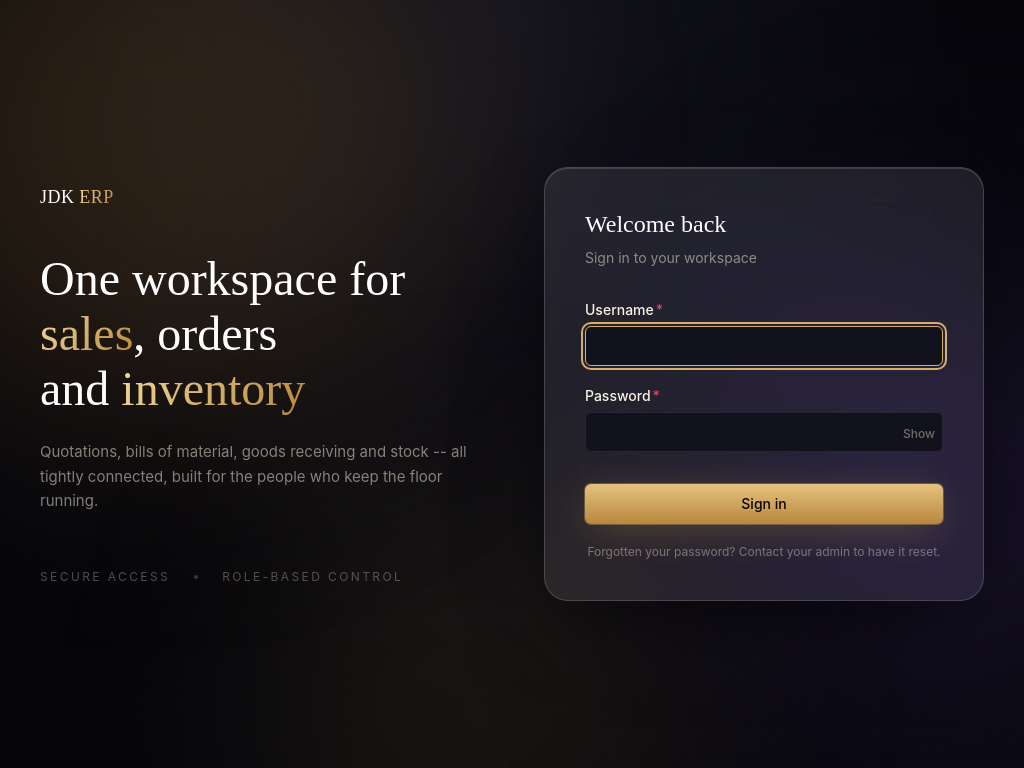
Test case: LoginPage › requires both fields before submitting
Click the button "Sign in" at (764, 504), box x1=585 y1=484 x2=943 y2=524
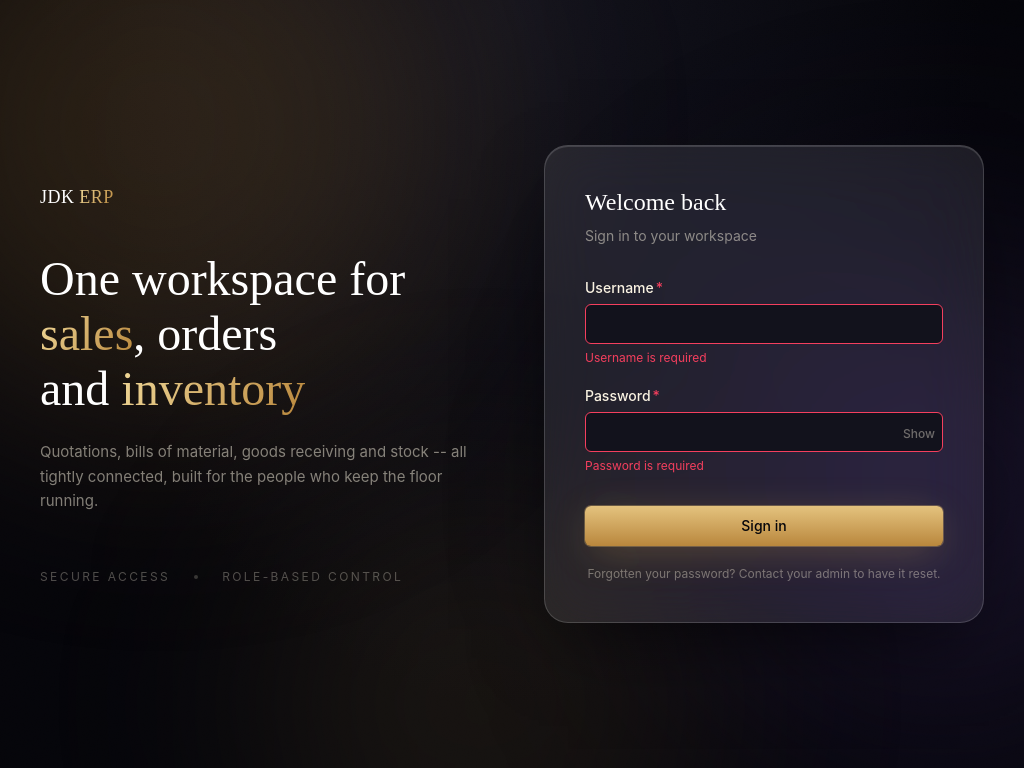
Now the text "Username is required" is shown, box x1=585 y1=350 x2=707 y2=365
Now the text "Password is required" is shown, box x1=585 y1=458 x2=704 y2=473
